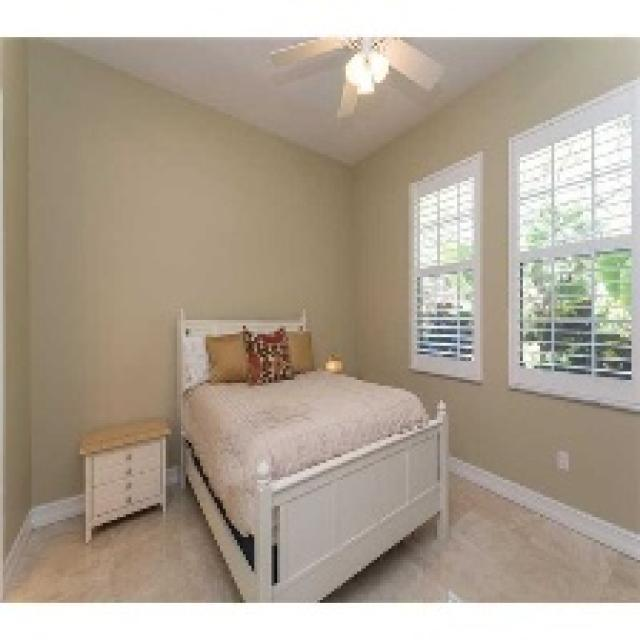Bed: (174, 306, 449, 600)
